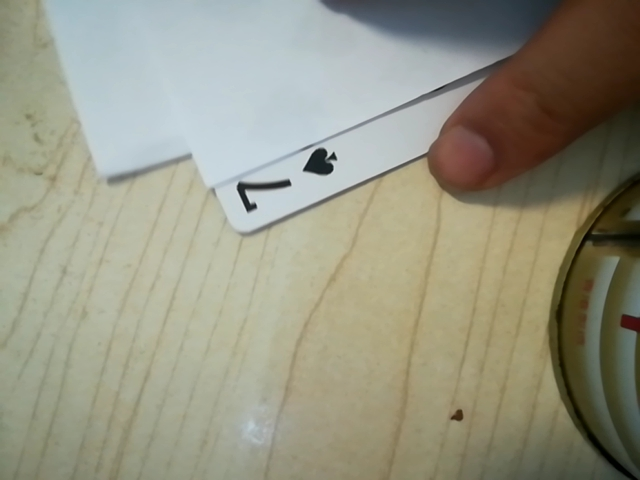ht 7: (223, 134, 359, 224)
